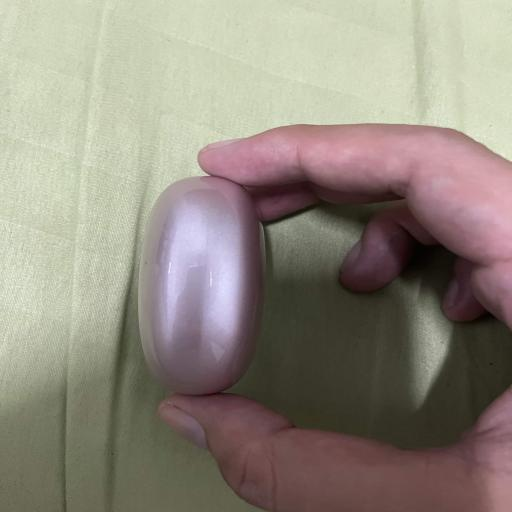GOOJODOQ: (138, 177, 265, 394)
